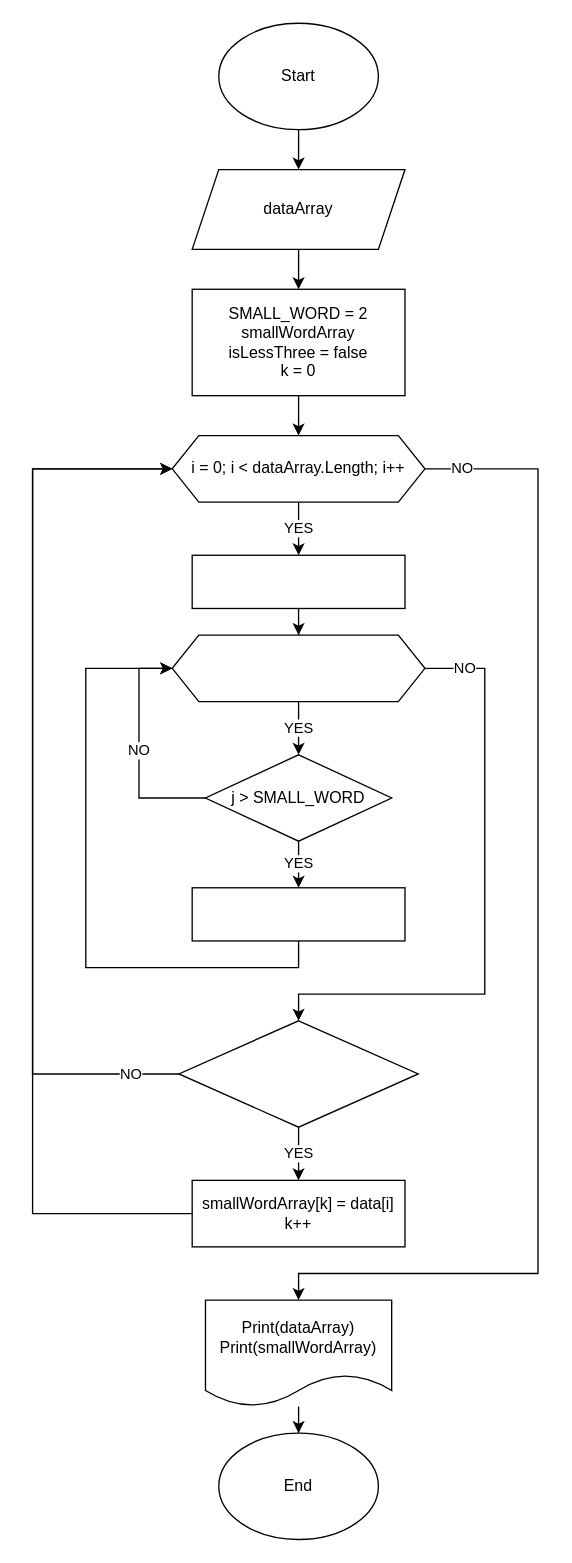
Image size: 572x1563. Some labels were removed from this diagram. The box of each missing label's shape, as (x1, y1, x2, y2) in pixels:
isLessThree = false: (191, 886, 405, 941)
isLessThree = true: (191, 554, 405, 608)
isLessThree == true & data[i] != "": (178, 1019, 418, 1127)
j = 0; j < data[i].Length; j++: (171, 634, 425, 702)
